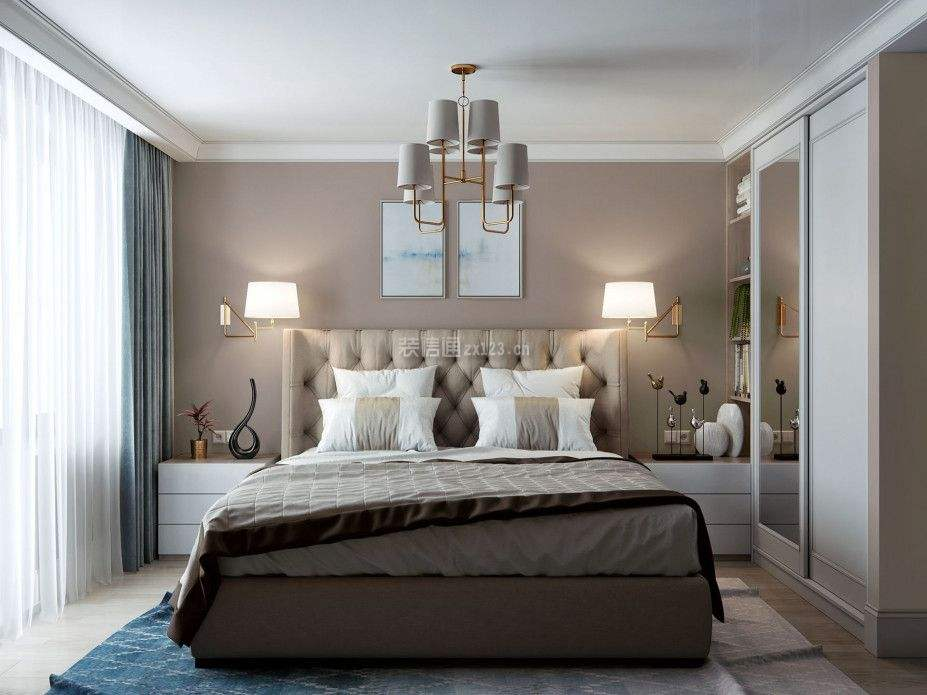床: (186, 442, 718, 685)
枕头: (307, 352, 613, 452)
灯: (397, 67, 532, 241), (597, 276, 679, 344), (235, 279, 303, 340)
